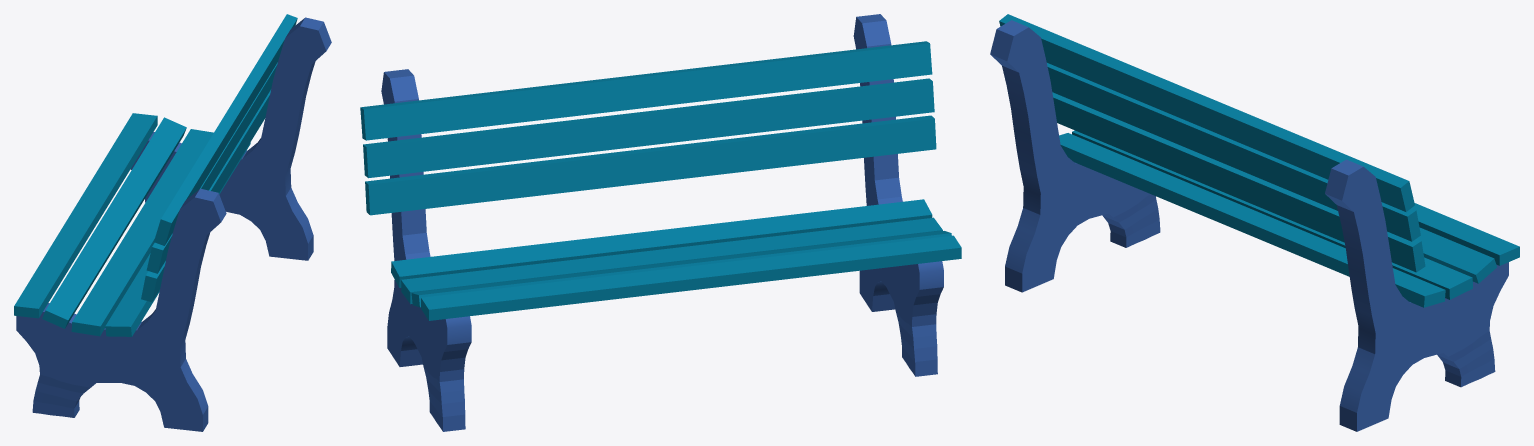
The model's file is bench_combined.fbx.
The picture shows the model from 3 angles, left to right: view 1: azimuth 30°, elevation 25°; view 2: azimuth 150°, elevation 25°; view 3: azimuth 270°, elevation 25°; orthographic projection. The views are drawn at different scales.
Parts seen in each view (by area): view 1: bench_combined; view 2: bench_combined; view 3: bench_combined.
Boxes of the visible parts, left/top/right/bottom form: bench_combined: left=14, top=14, right=331, bottom=431; bench_combined: left=360, top=14, right=961, bottom=431; bench_combined: left=990, top=14, right=1519, bottom=431.
Bounding box in the file's own units: 42.65 × 23.48 × 42.85.
2 materials, 2 textured.
